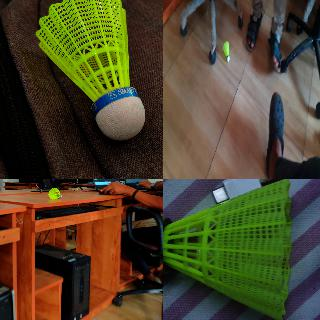shuttlecock: (163, 179, 292, 319), (36, 0, 145, 140), (222, 41, 230, 61), (48, 188, 61, 198)
